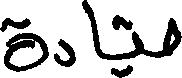X: (0, 13, 45, 76), (86, 0, 101, 62), (164, 13, 181, 60), (56, 34, 74, 71), (133, 26, 143, 62)
